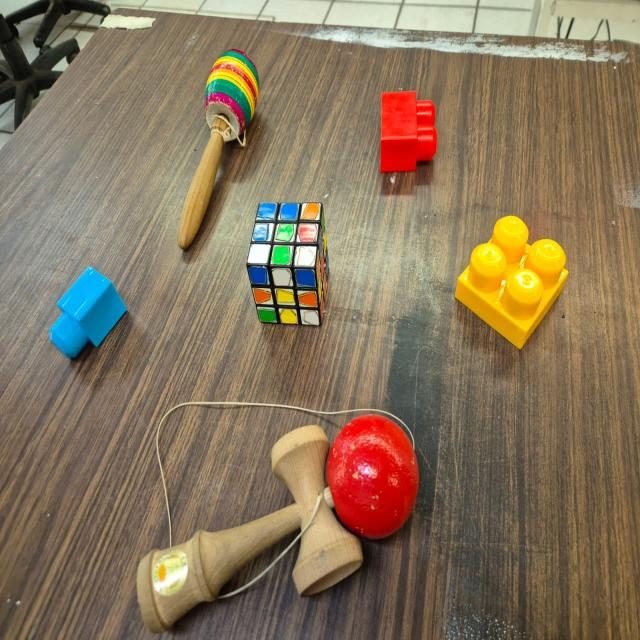balero: (174, 46, 260, 250)
balero ball: (136, 400, 424, 635)
lego 2: (376, 89, 439, 173)
lego 4: (453, 215, 569, 350)
lego_1: (48, 265, 128, 357)
rubick: (246, 201, 329, 327)
